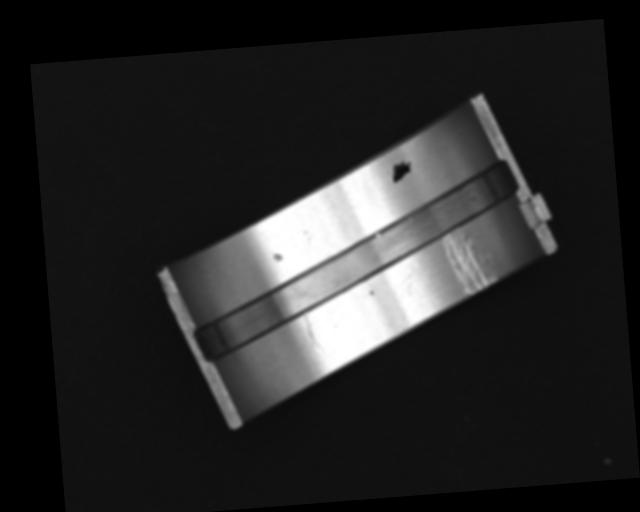blot: (390, 160, 414, 184)
bruise: (272, 253, 282, 262), (369, 288, 374, 295)
gap: (180, 159, 527, 364)
nick: (303, 310, 325, 356)
scratch: (442, 228, 498, 296)
